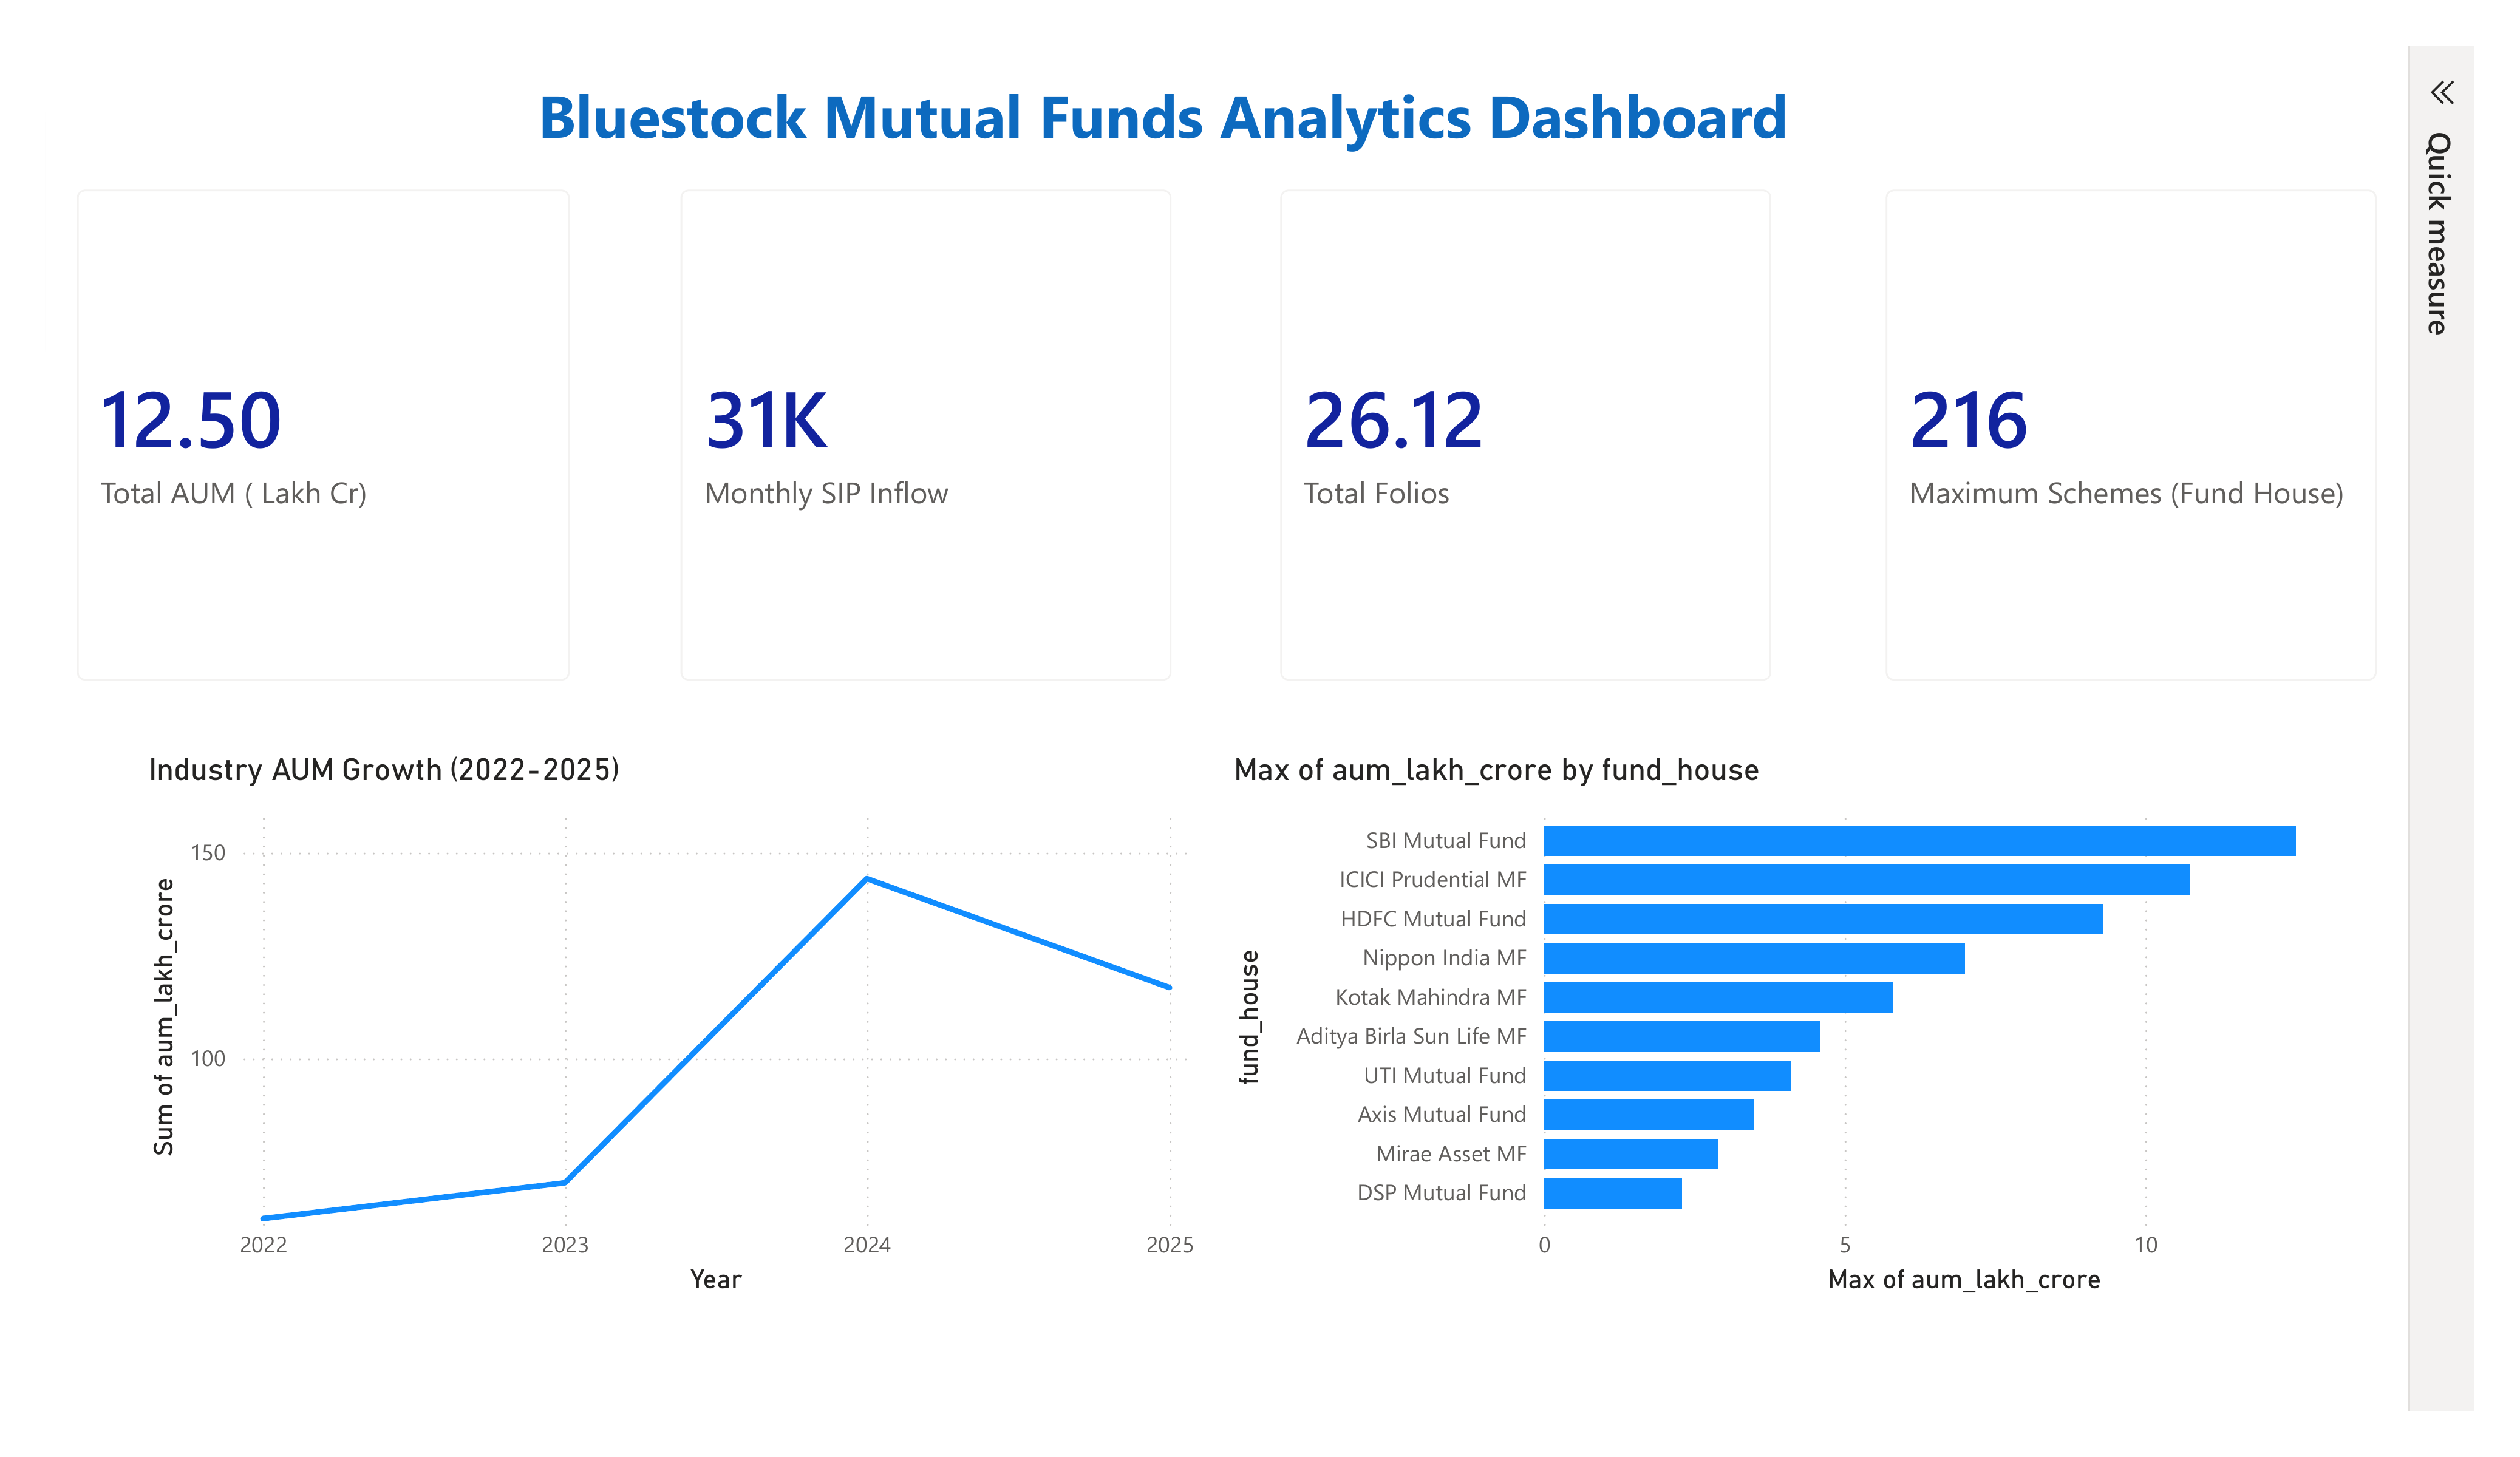

The page's visual inventory and layout, read from the dashboard file:
{"tool":"powerbi","page":{"name":"Industry Overview","canvas":[1280,720],"ordinal":0},"visuals":[{"type":"textbox","box":[262.1,0,730,101.5],"z":0},{"type":"cardVisual","fields":{"Data":["Max(03_aum_by_fund_house.aum_lakh_crore)"]},"box":[0,50.8,300.5,300.5],"z":1000},{"type":"cardVisual","fields":{"Data":["Max(04_monthly_sip_inflows.sip_inflow_crore)"]},"box":[326.6,50.8,300.5,300.5],"z":2000},{"type":"cardVisual","fields":{"Data":["Max(03_aum_by_fund_house.num_schemes)"]},"box":[979.8,50.8,300.5,300.5],"z":3000},{"type":"cardVisual","fields":{"Data":["Max(06_industry_folio_count.total_folios_crore)"]},"box":[651.8,50.8,300.5,300.5],"z":4000},{"type":"lineChart","title":"Industry AUM Growth (2022-2025)","fields":{"Category":["03_aum_by_fund_house.date.Variation.Date Hierarchy.Year","03_aum_by_fund_house.date.Variation.Date Hierarchy.Quarter","03_aum_by_fund_house.date.Variation.Date Hierarchy.Month","03_aum_by_fund_house.date.Variation.Date Hierarchy.Day"],"Y":["Sum(03_aum_by_fund_house.aum_lakh_crore)"]},"box":[50.8,371.9,576.3,300.5],"z":5000},{"type":"clusteredBarChart","fields":{"Category":["03_aum_by_fund_house.fund_house"],"Y":["Max(03_aum_by_fund_house.aum_lakh_crore)"]},"box":[639.5,371.9,640.8,300.5],"z":6000}]}

Visuals, with their boxes on the page's 1280x720 design canvas (x1, y1, x2, y2). These are canvas units, not pixel positions in the 2520x1457 screenshot, which may show the page scaled, cropped or inside an application window:
textbox: select_region(262, 0, 992, 102)
cardVisual - Max(03_aum_by_fund_house.aum_lakh_crore): select_region(0, 51, 300, 351)
cardVisual - Max(04_monthly_sip_inflows.sip_inflow_crore): select_region(327, 51, 627, 351)
cardVisual - Max(03_aum_by_fund_house.num_schemes): select_region(980, 51, 1280, 351)
cardVisual - Max(06_industry_folio_count.total_folios_crore): select_region(652, 51, 952, 351)
"Industry AUM Growth (2022-2025)" lineChart: select_region(51, 372, 627, 672)
clusteredBarChart - 03_aum_by_fund_house.fund_house x Max(03_aum_by_fund_house.aum_lakh_crore): select_region(640, 372, 1280, 672)
